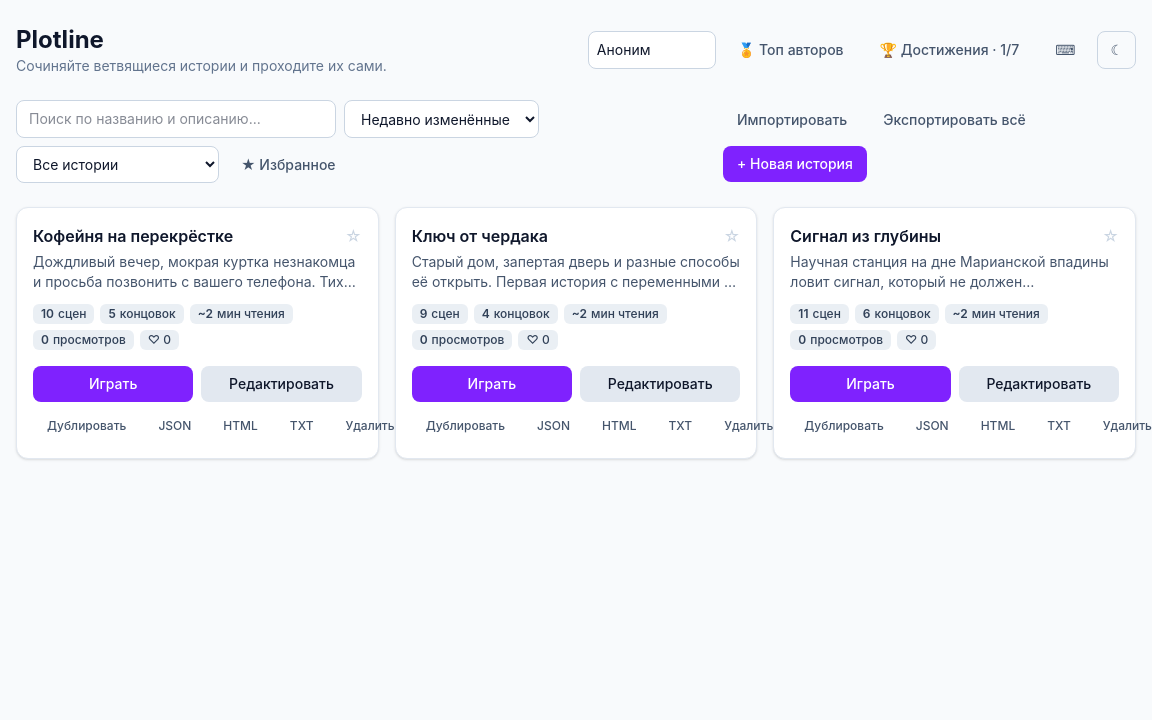
Test case: LibraryScreen › closes the new-story dialog via cancel without creating a story
Click the button "+ Новая история". click: x=795, y=164
box: [723, 146, 867, 182]
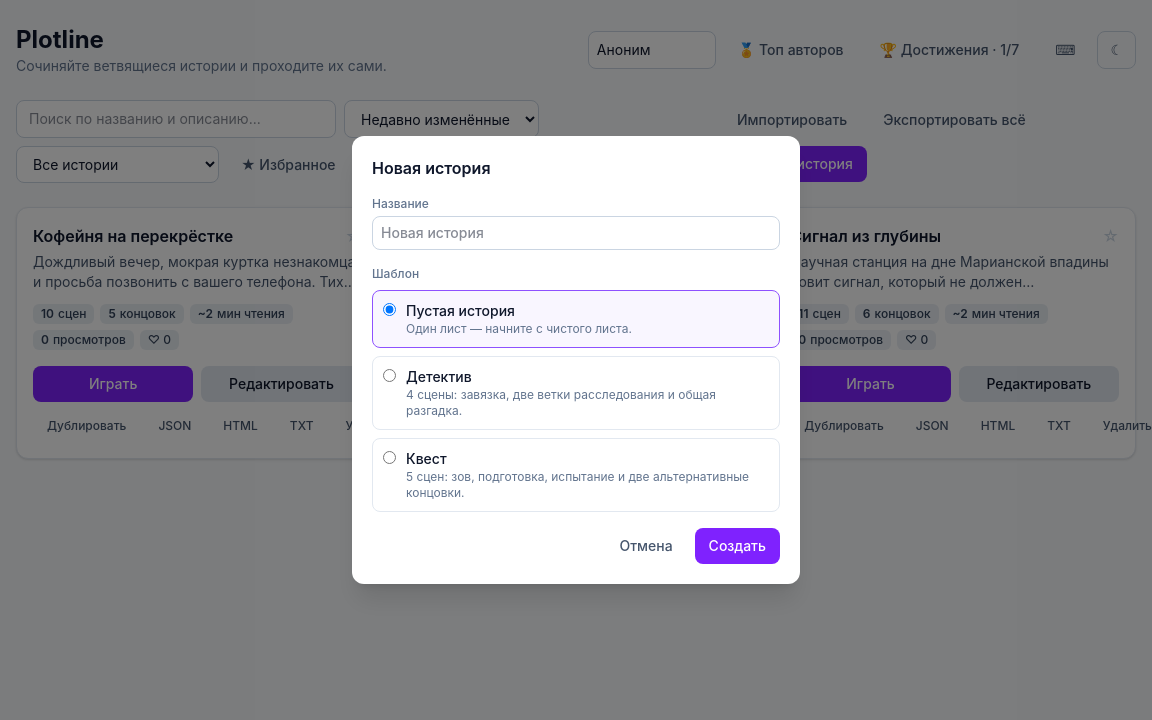
Click the button "Отмена". click: x=646, y=546
box: [605, 528, 687, 564]
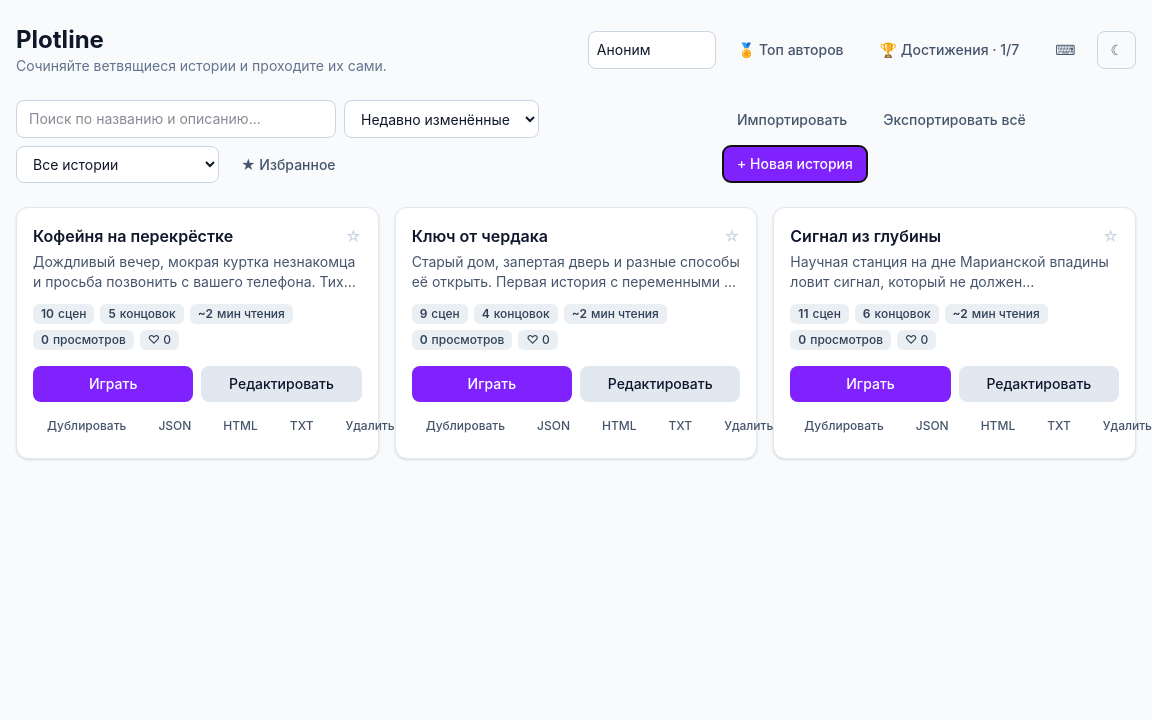
Result: the dialog is gone
